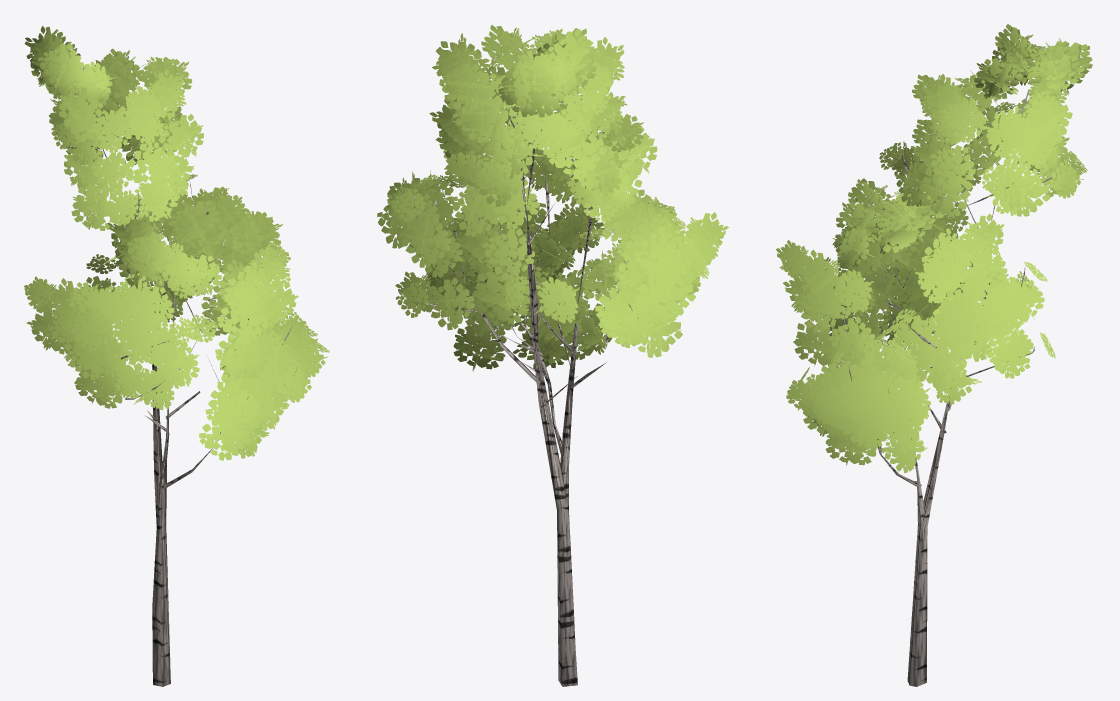
File: nkbirch1.lod1.glb
The picture shows the model from 3 angles, left to right: view 1: azimuth 30°, elevation 25°; view 2: azimuth 150°, elevation 25°; view 3: azimuth 270°, elevation 25°; orthographic projection. The views are drawn at different scales.
Visible parts, largest first — view 1: Birch_1; view 2: Birch_1; view 3: Birch_1.
Boxes of the visible parts, box(x1,y1,x2,y2) form: Birch_1: box(24, 26, 329, 686); Birch_1: box(377, 25, 728, 686); Birch_1: box(776, 24, 1092, 686).
Bounding box in the file's own units: 6.29 × 13.72 × 6.54.
2 materials, 2 textured.
